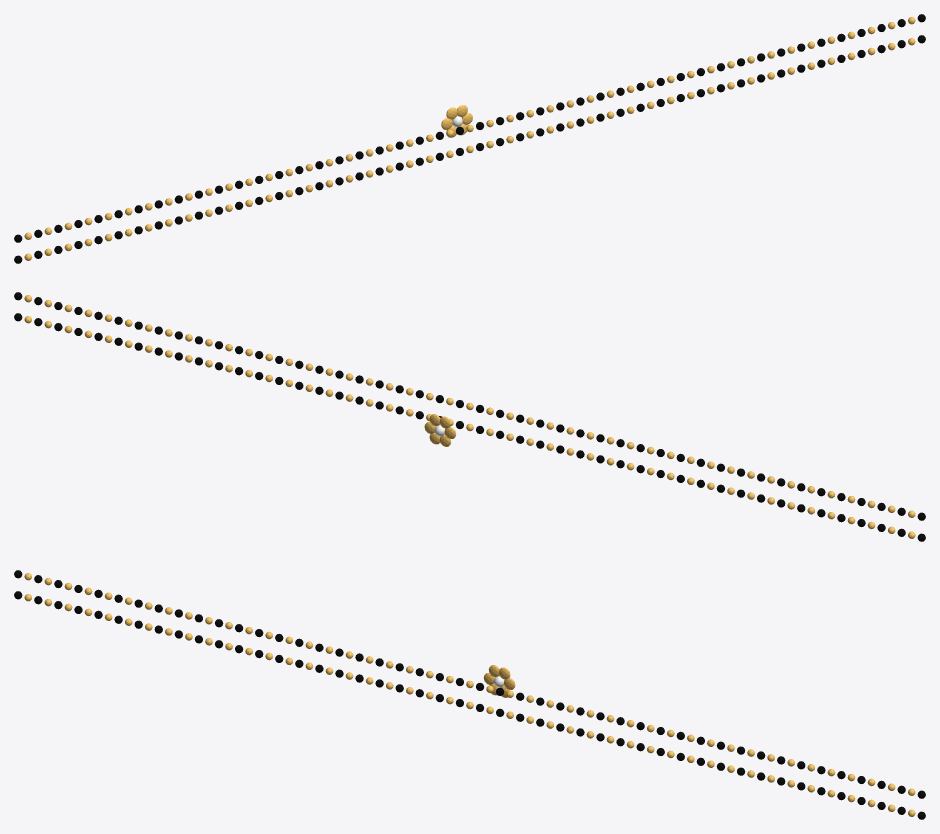
The model's file is mangalsutra_floral_bridal.glb.
3 renders of one model, top to bottom at view 1: azimuth 30°, elevation 25°; view 2: azimuth 150°, elevation 25°; view 3: azimuth 330°, elevation 25°, orthographic.
Parts seen in each view (by area): view 1: world; view 2: world; view 3: world.
Boxes of the visible parts, <box> form: world: <box>14,14,925,263</box>; world: <box>14,292,925,541</box>; world: <box>14,570,925,819</box>.
Size of the model in its own units: 0.5444 by 0.0174 by 0.0272.
Materials: 1 (1 with a texture image).
